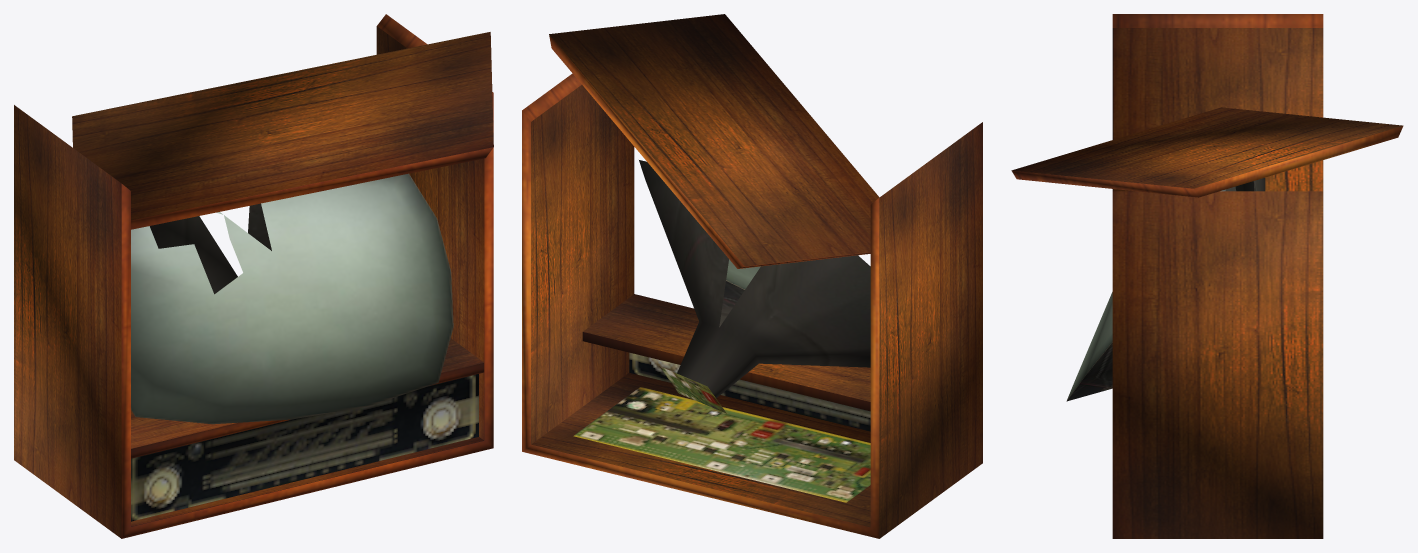
3 renders of one model, left to right at view 1: azimuth 30°, elevation 25°; view 2: azimuth 150°, elevation 25°; view 3: azimuth 270°, elevation 25°, orthographic. The views are drawn at different scales.
Parts seen in each view (by area): view 1: TV02; view 2: TV02; view 3: TV02.
Boxes of the visible parts, x1=… form: TV02: x1=14, y1=14, x2=493, y2=538; TV02: x1=522, y1=14, x2=982, y2=538; TV02: x1=1011, y1=14, x2=1403, y2=538.
Size of the model in its own units: 4403 by 3865 by 3728.
